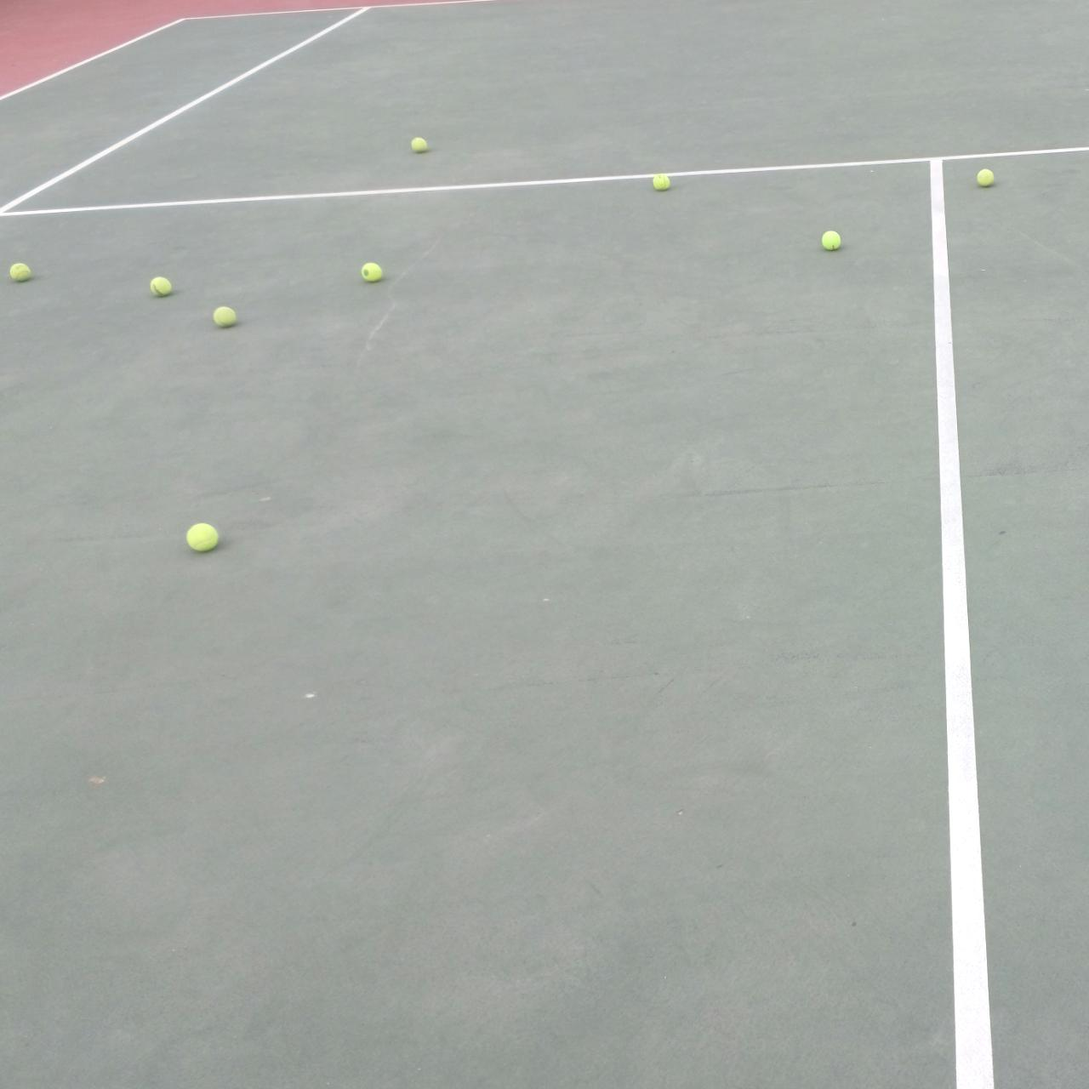tennis-ball: (186, 520, 220, 552), (213, 304, 238, 327), (361, 259, 385, 282), (9, 259, 32, 282), (151, 274, 174, 297), (821, 227, 843, 250), (977, 166, 996, 187), (653, 171, 672, 191), (411, 134, 430, 152)
